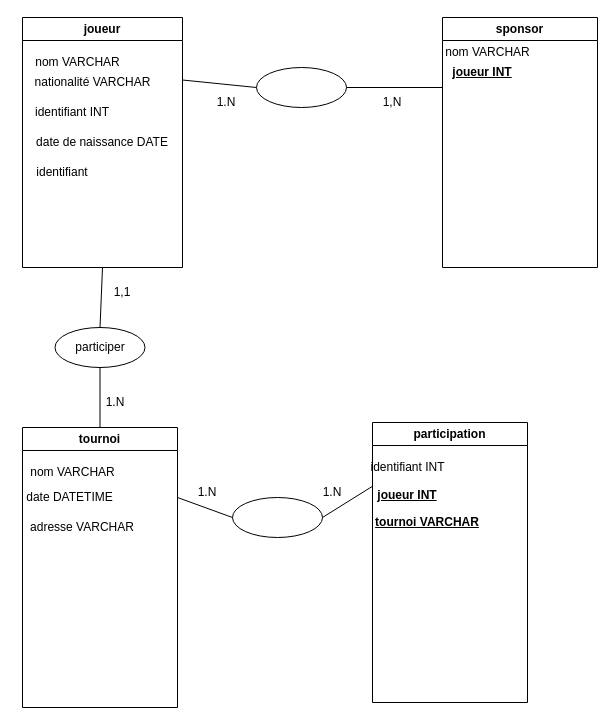
Some shapes in this 615 by 725 pixel diagram are drawn without their labels. Each missing label, with the centre of its shape:
"inscription" goes at (x=277, y=517).
"sponsoriser" goes at (x=301, y=87).
